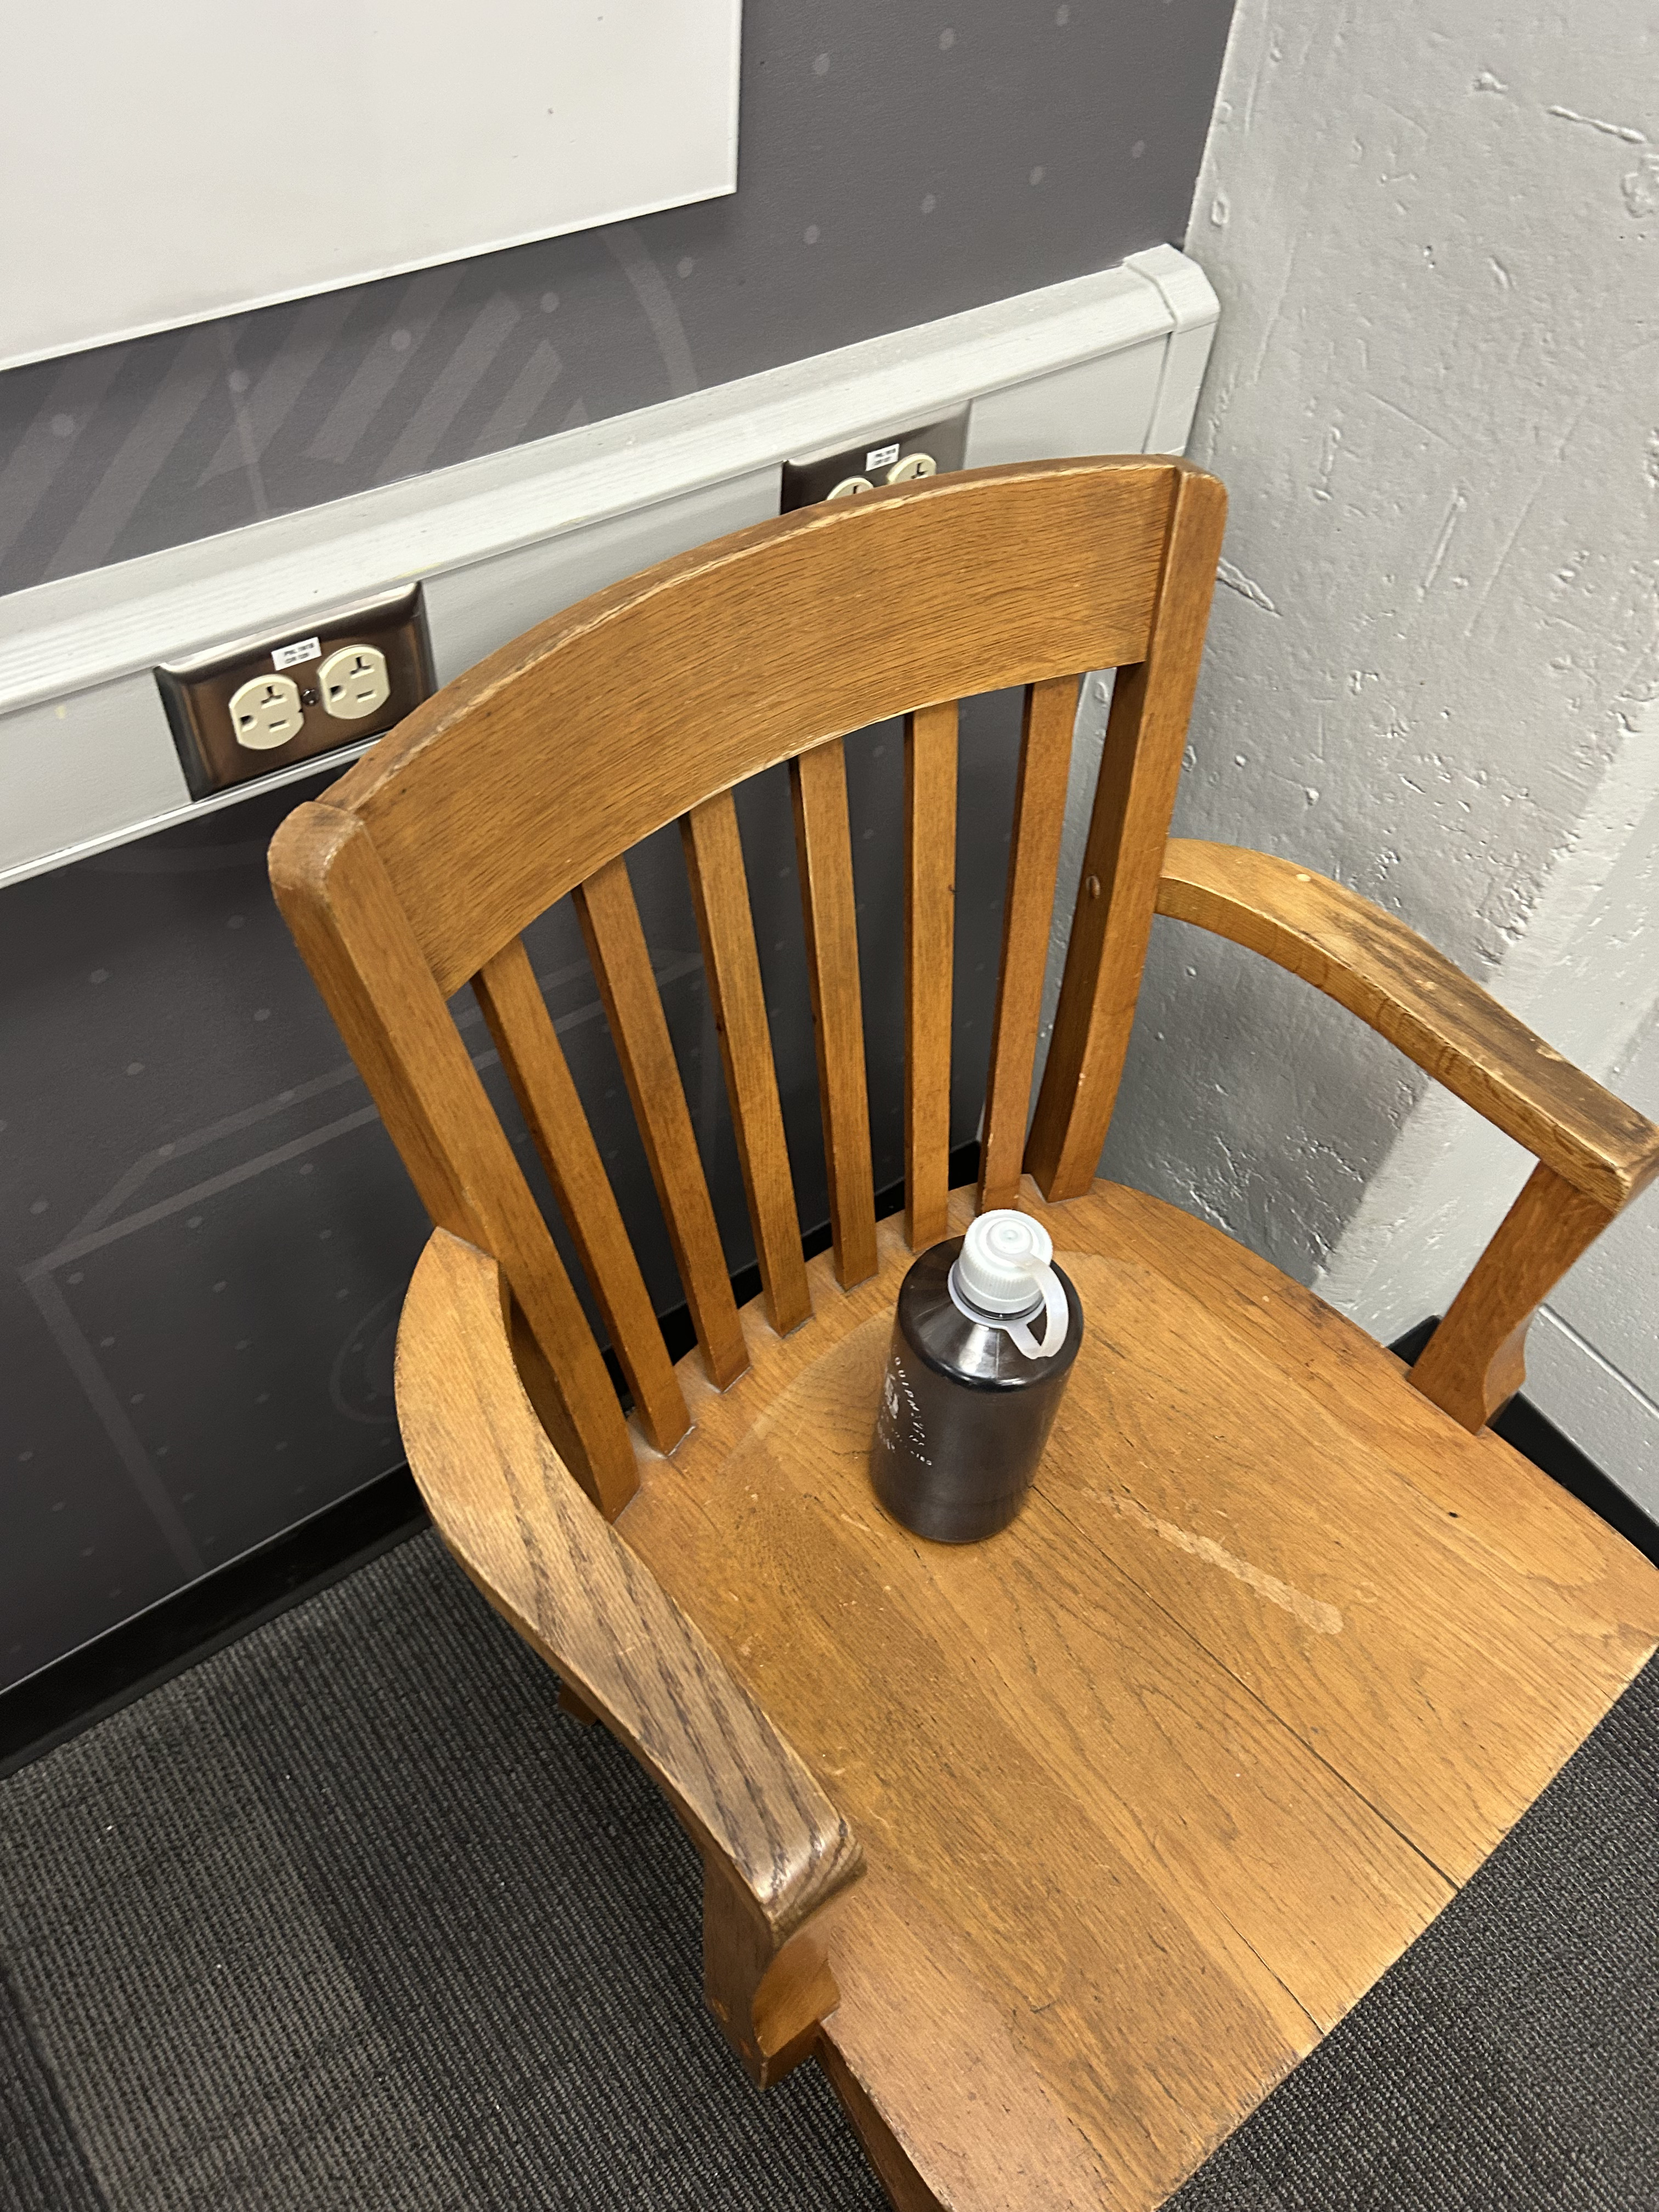bottle: (866, 1204, 1087, 1545)
